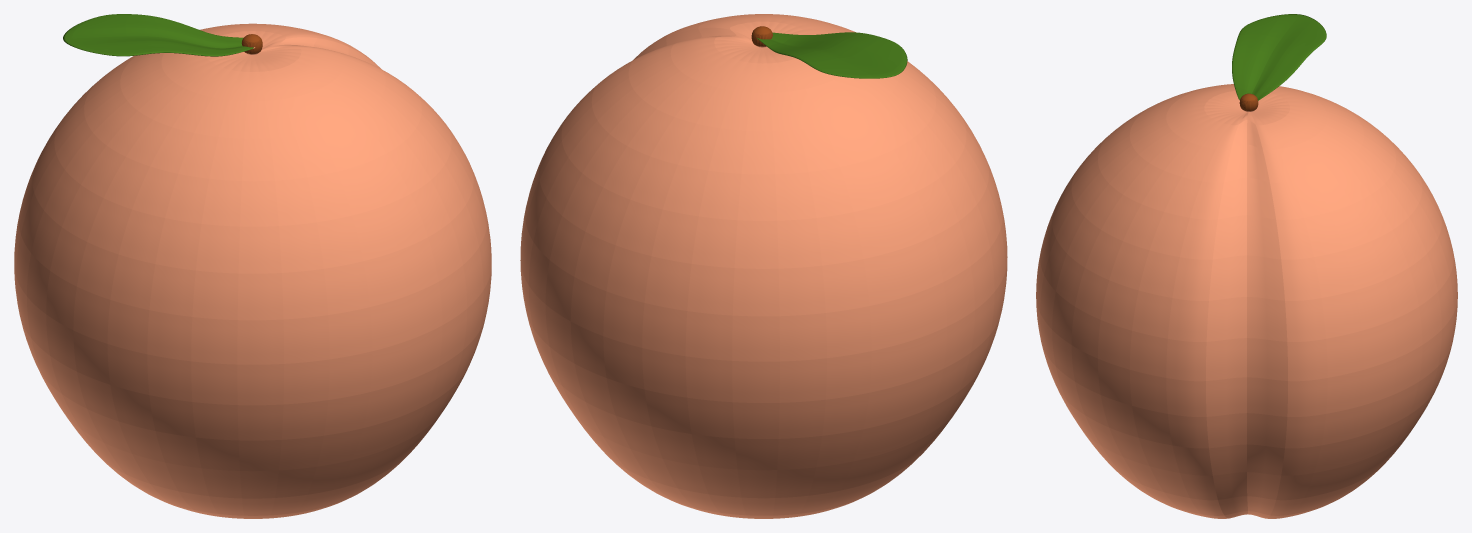
File: Peach.fbx
The picture shows the model from 3 angles, left to right: view 1: azimuth 30°, elevation 25°; view 2: azimuth 150°, elevation 25°; view 3: azimuth 270°, elevation 25°; orthographic projection. The views are drawn at different scales.
Visible parts, largest first — view 1: Sphere; view 2: Sphere; view 3: Sphere.
Part boxes in pixels (left/top/right/bottom): Sphere: left=14, top=14, right=491, bottom=518; Sphere: left=520, top=14, right=1007, bottom=518; Sphere: left=1036, top=14, right=1457, bottom=518.
Size of the model in its own units: 194 by 210 by 197.
